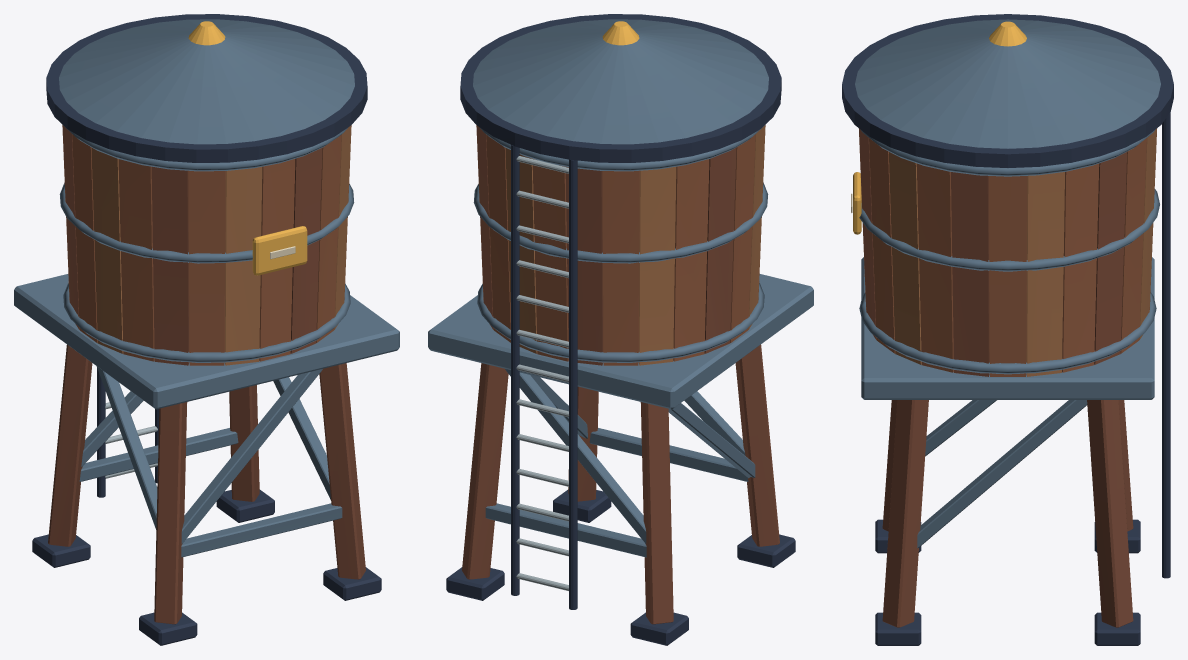
Rendered from water-tower.glb.
3 renders of one model, left to right at view 1: azimuth 30°, elevation 25°; view 2: azimuth 150°, elevation 25°; view 3: azimuth 270°, elevation 25°, orthographic. The views are drawn at different scales.
Visible parts, largest first — view 1: water-tower; view 2: water-tower; view 3: water-tower.
Boxes of the visible parts, bbox=[...] form: water-tower: bbox=[14, 14, 399, 645]; water-tower: bbox=[428, 14, 813, 645]; water-tower: bbox=[842, 14, 1173, 645].
Size of the model in its own units: 2.6 by 4.89 by 2.6.
